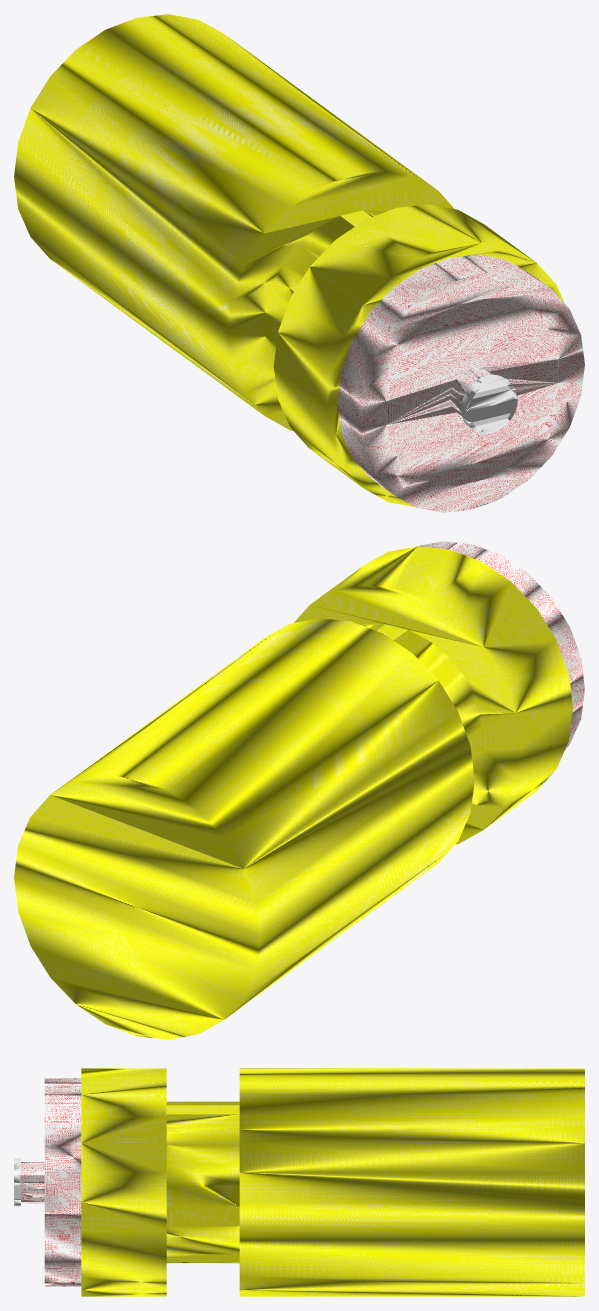
The model's file is model_align.obj.
3 views of the same model, one above another, from view 1: azimuth 30°, elevation 25°; view 2: azimuth 150°, elevation 25°; view 3: azimuth 270°, elevation 25° (orthographic). The views are drawn at different scales.
Bounding box in the file's own units: 0.0843 × 0.0843 × 0.2099.
